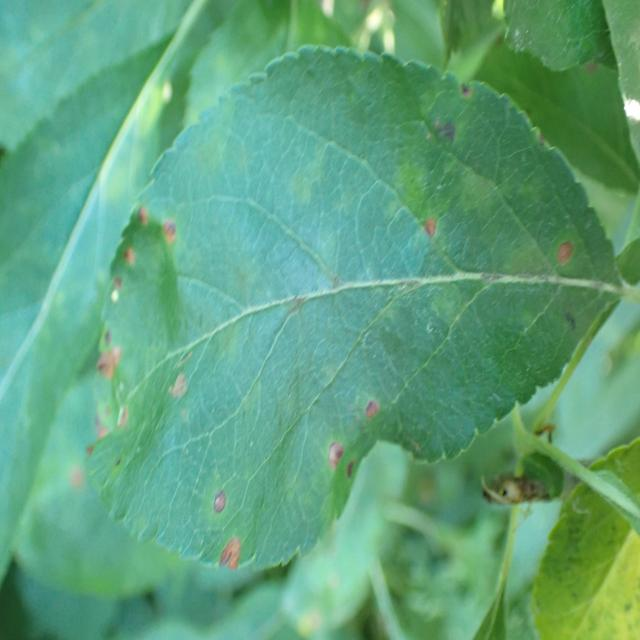frog-eye-leaf-spot: (85, 42, 619, 570)
